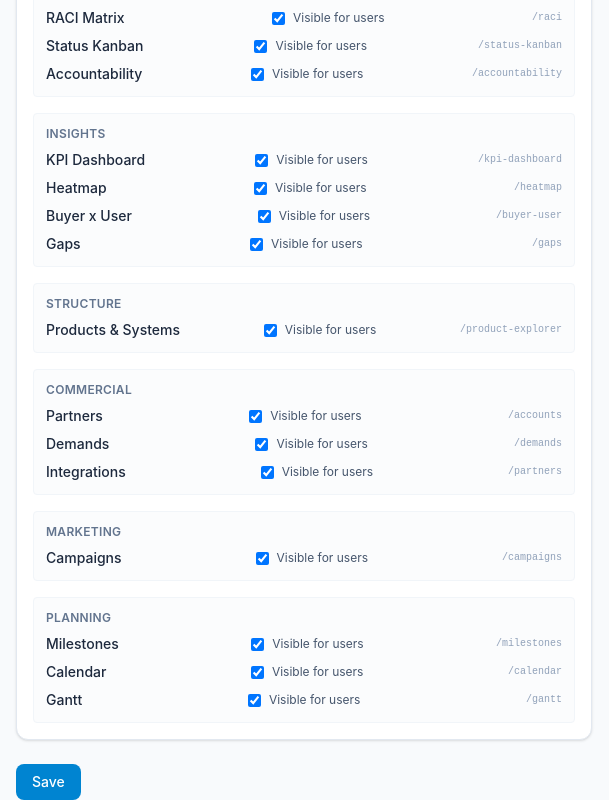
Test: WorkspaceSettingsPage › shows error when API save fails
(page scrolled)
Click the button "Save": (48, 782) [16,764,81,799]
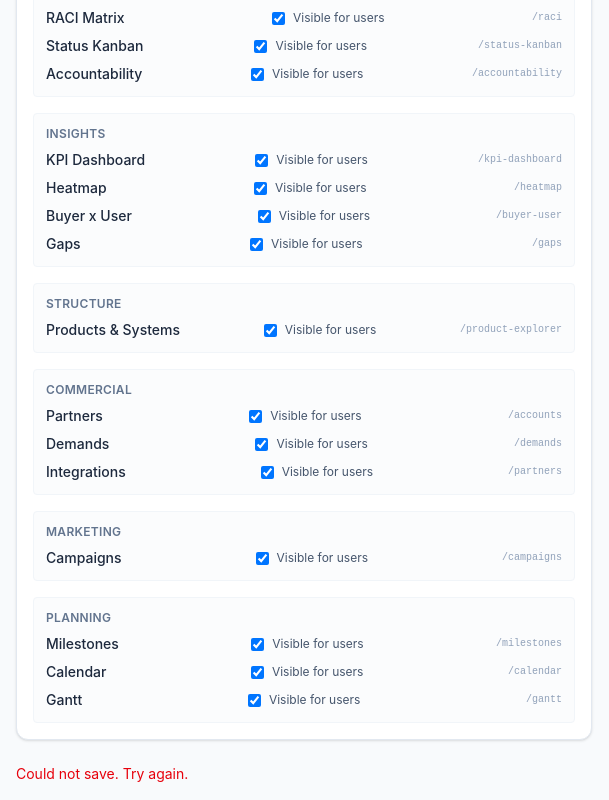
Now the text "Could not save. Try again." is shown, box [16,765,188,782]
